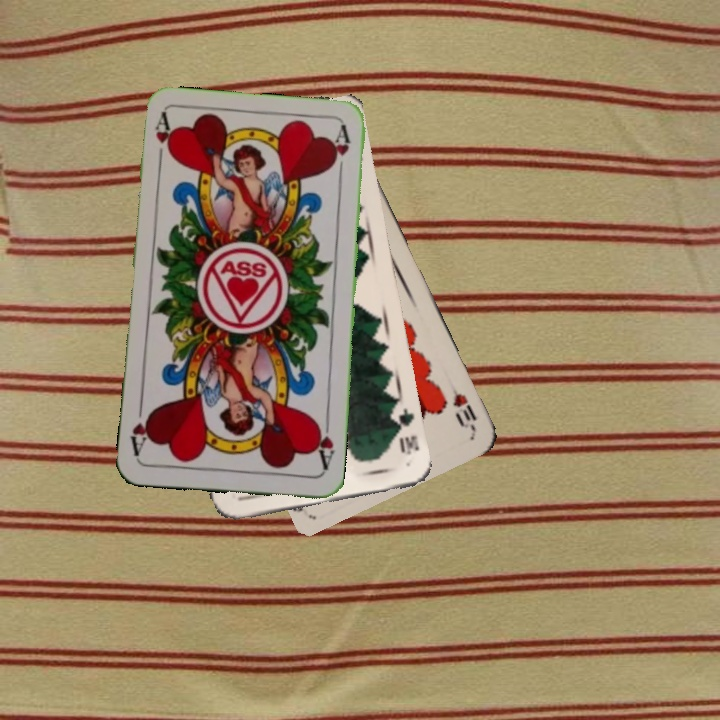G10: (389, 403, 422, 457)
H10: (445, 377, 479, 433)
HA: (310, 414, 337, 473), (151, 110, 176, 170)
